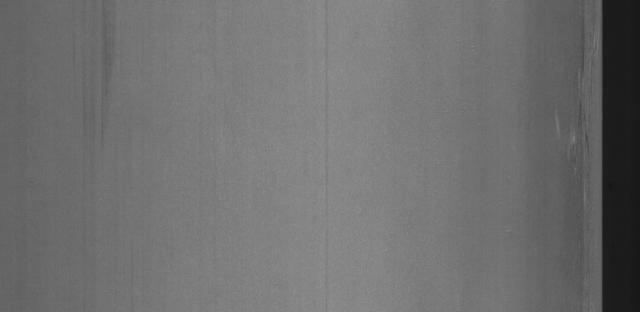silk_spot: (532, 23, 600, 199)
